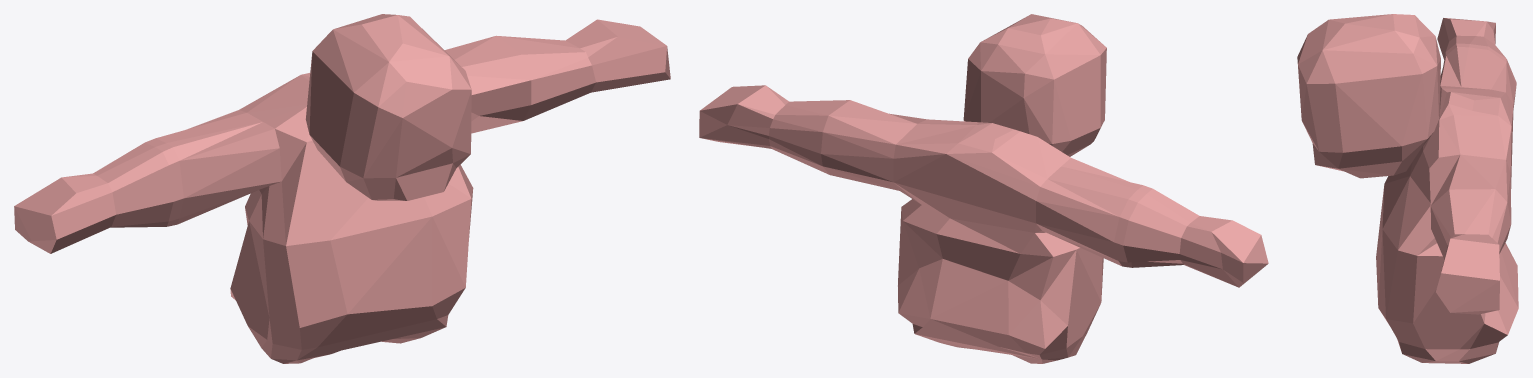
The model's file is golem_archive.fbx.
The picture shows the model from 3 angles, left to right: view 1: azimuth 30°, elevation 25°; view 2: azimuth 150°, elevation 25°; view 3: azimuth 270°, elevation 25°; orthographic projection. The views are drawn at different scales.
Parts seen in each view (by area): view 1: Cube.007; view 2: Cube.007; view 3: Cube.007.
Part boxes in pixels (x1,y1,x2,y2): Cube.007: (14,14,670,363); Cube.007: (699,14,1268,363); Cube.007: (1297,14,1518,363).
Bounding box in the file's own units: 1148 × 595 × 378.
